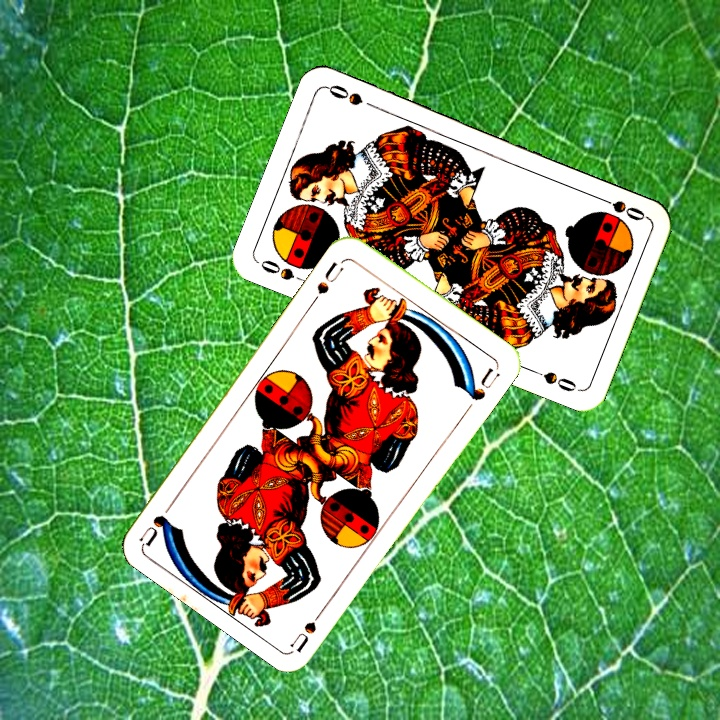SO: (592, 192, 649, 224), (256, 256, 311, 286)
SU: (287, 599, 330, 654), (307, 257, 347, 307)
